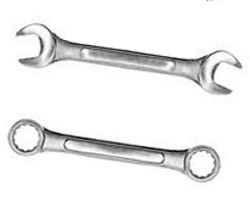wrench: (7, 15, 242, 99)
